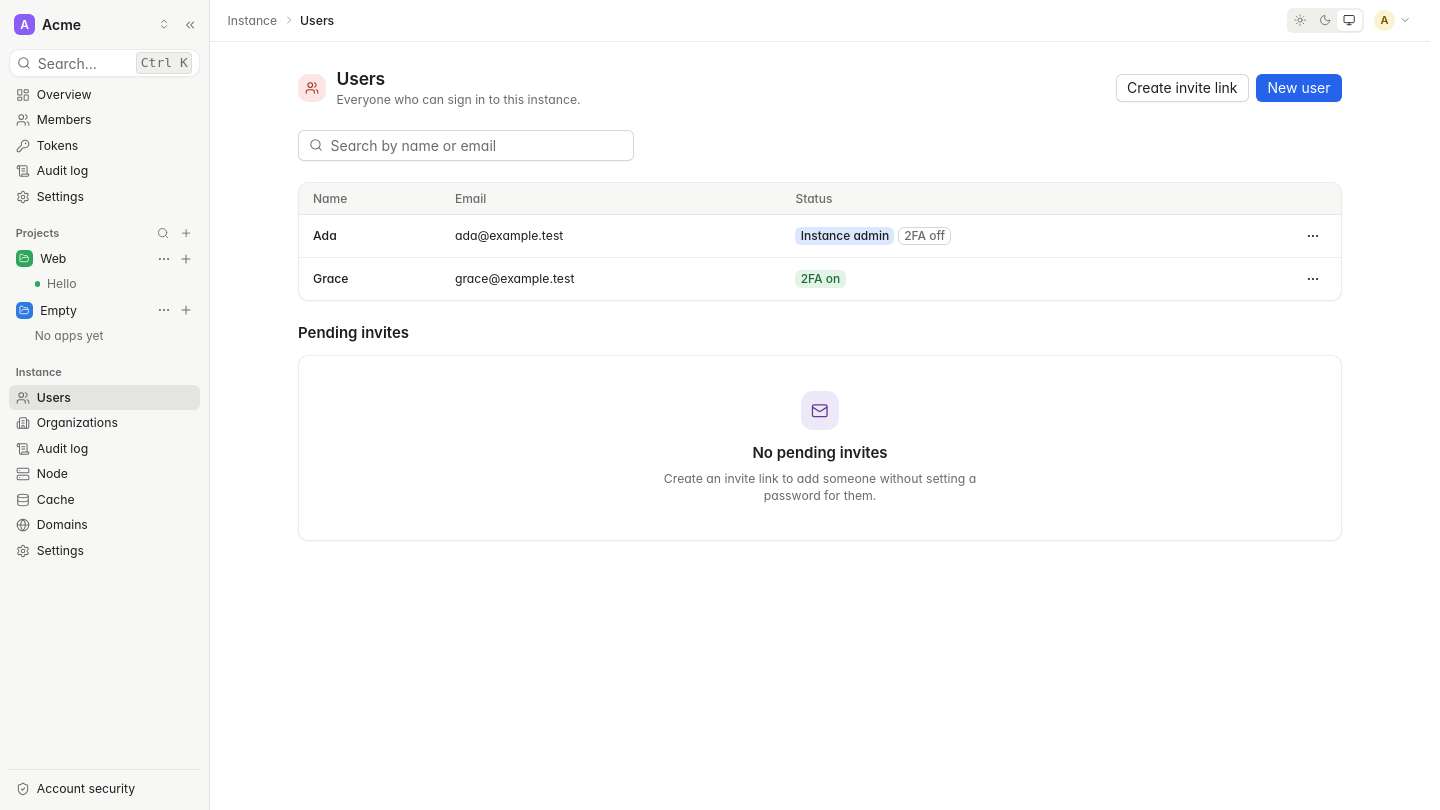
Test case: admin pages › delete user explains the soft delete
Click the button named "actions for grace": coordinates (1313, 279) [1299,265,1327,293]
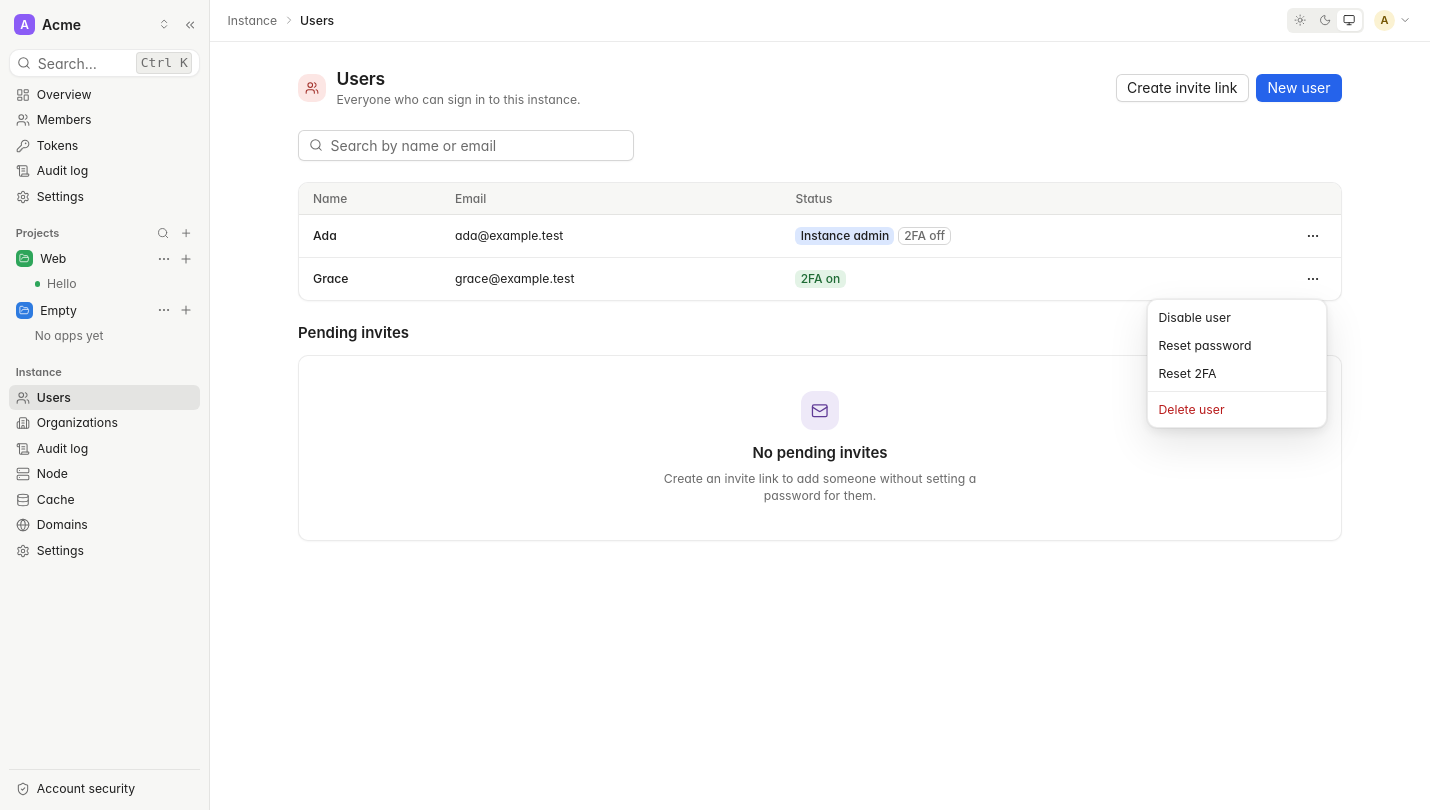
Click the menu item "Delete user": coordinates (1192, 409) [1158,402,1224,417]
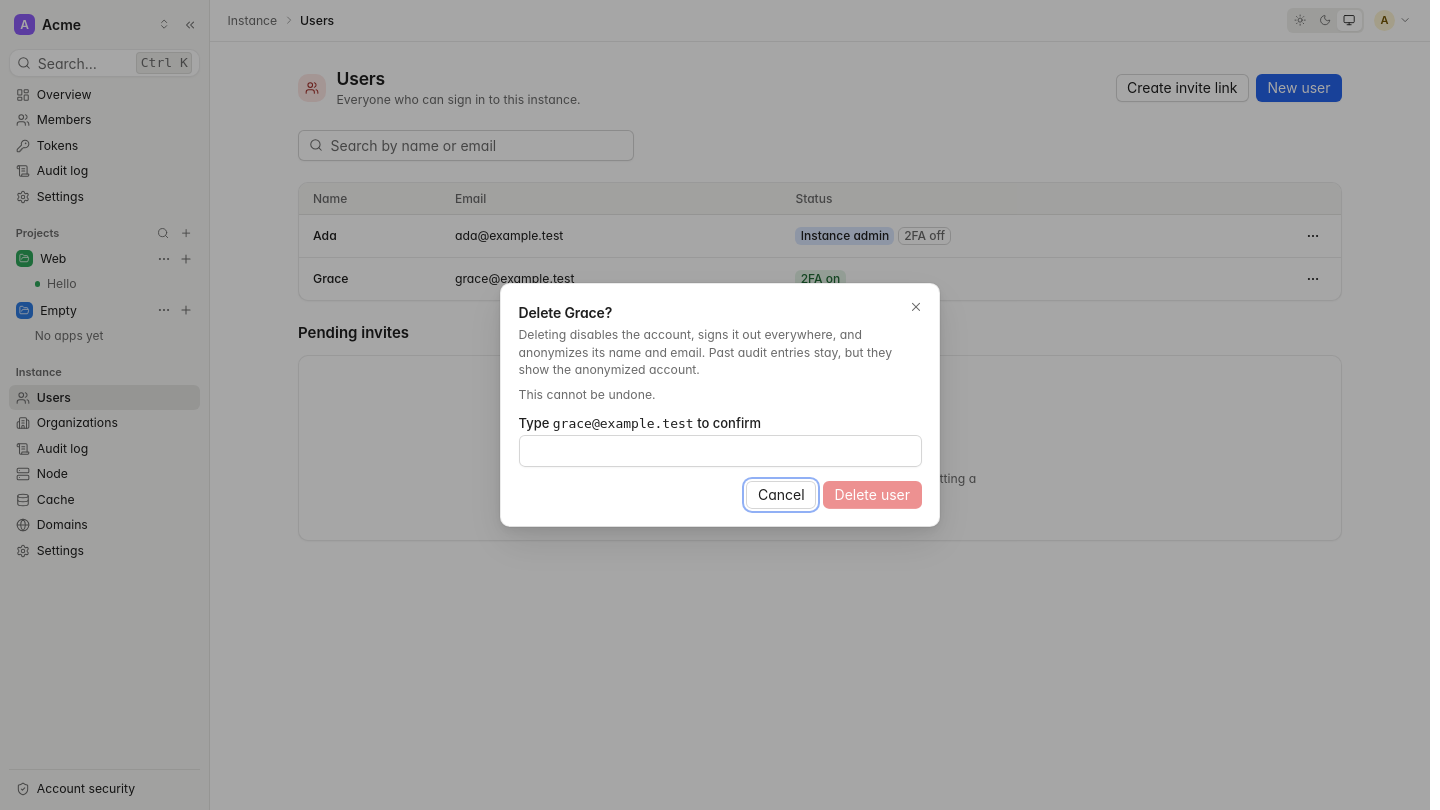
Expected: the text "anonymizes" is shown, [518,327,892,377]
